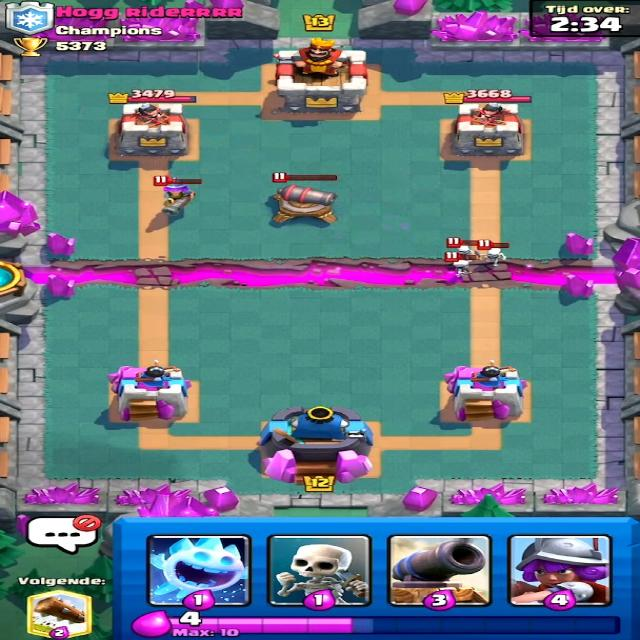Cannon_Card: (390, 535, 495, 608)
Enemy_Cannon_Troop: (277, 183, 348, 234)
Enemy_Musketeer_Troop: (148, 180, 203, 218)
Enemy_Skeleton_Troop: (442, 256, 478, 282), (483, 242, 510, 268), (444, 240, 476, 260)
Ice_Spirit_Card: (140, 533, 252, 606)
Musketeer_Card: (508, 534, 612, 610)
Skeleton_Card: (268, 534, 364, 607)
